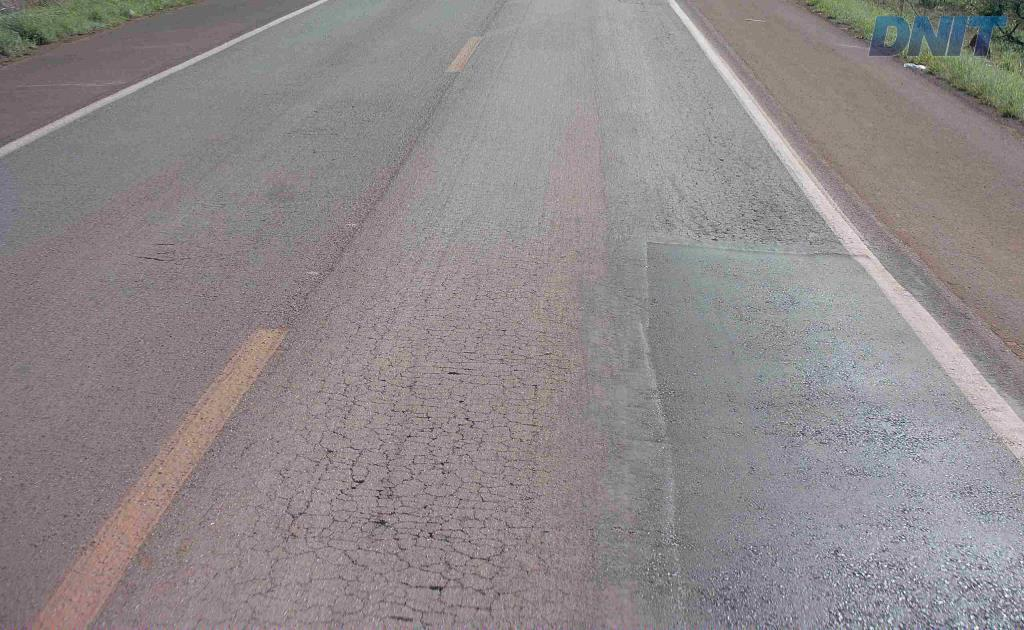crack: (422, 526, 511, 587), (360, 511, 419, 552)
